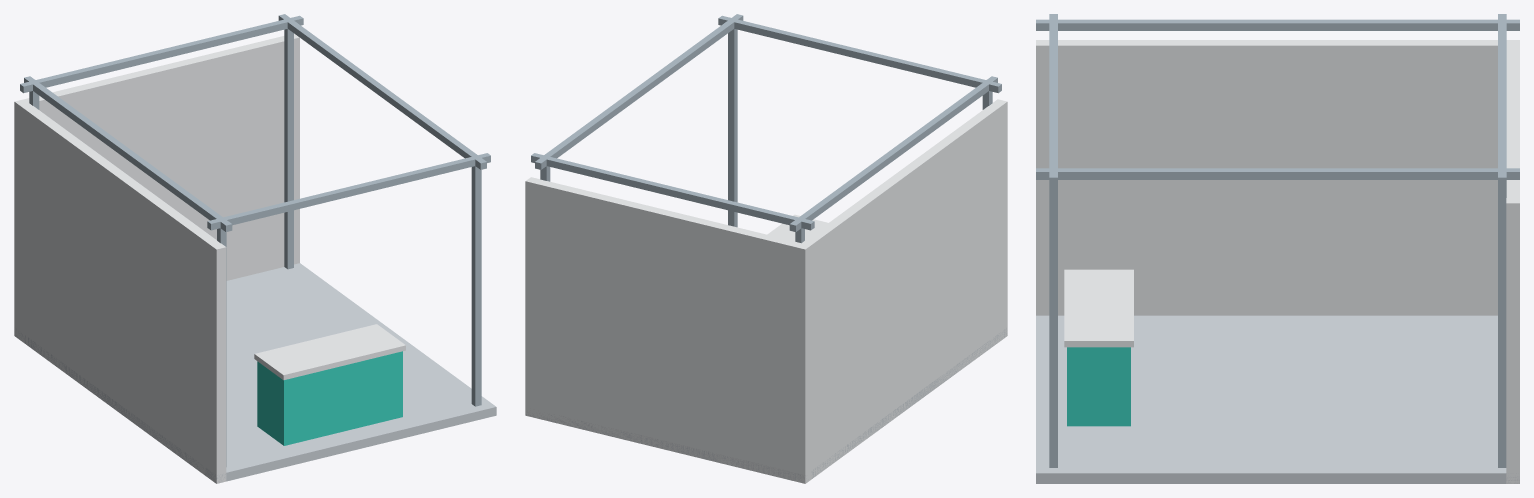
3 renders of one model, left to right at view 1: azimuth 30°, elevation 25°; view 2: azimuth 150°, elevation 25°; view 3: azimuth 270°, elevation 25°, orthographic. The views are drawn at different scales.
Parts seen in each view (by area): view 1: Exhibition Booth Concept; view 2: Exhibition Booth Concept; view 3: Exhibition Booth Concept.
Part boxes in pixels (x1,y1,x2,y2): Exhibition Booth Concept: [14, 14, 496, 483]; Exhibition Booth Concept: [525, 14, 1007, 483]; Exhibition Booth Concept: [1036, 14, 1519, 483].
Bounding box in the file's own units: 4 × 3.49 × 5.
